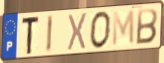B: (135, 8, 159, 46)
I: (45, 14, 55, 55)
M: (111, 9, 136, 48)
O: (89, 11, 112, 51)
T: (21, 15, 41, 56)
X: (67, 11, 89, 52)
